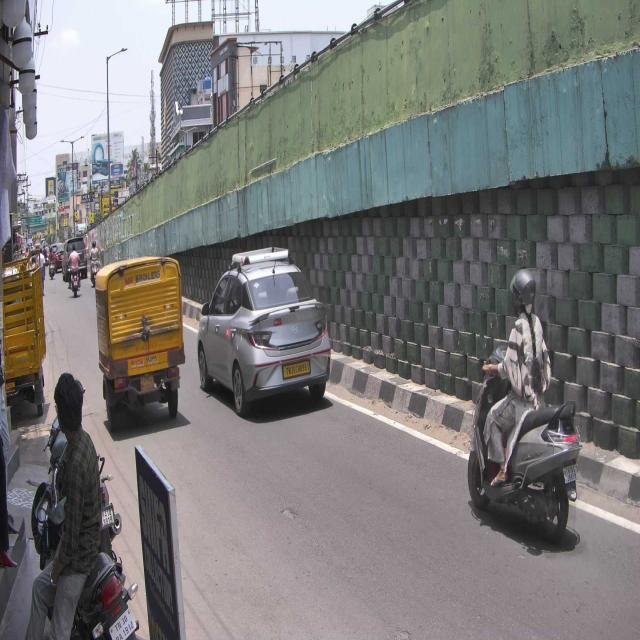single_rider: (466, 266, 584, 549)
